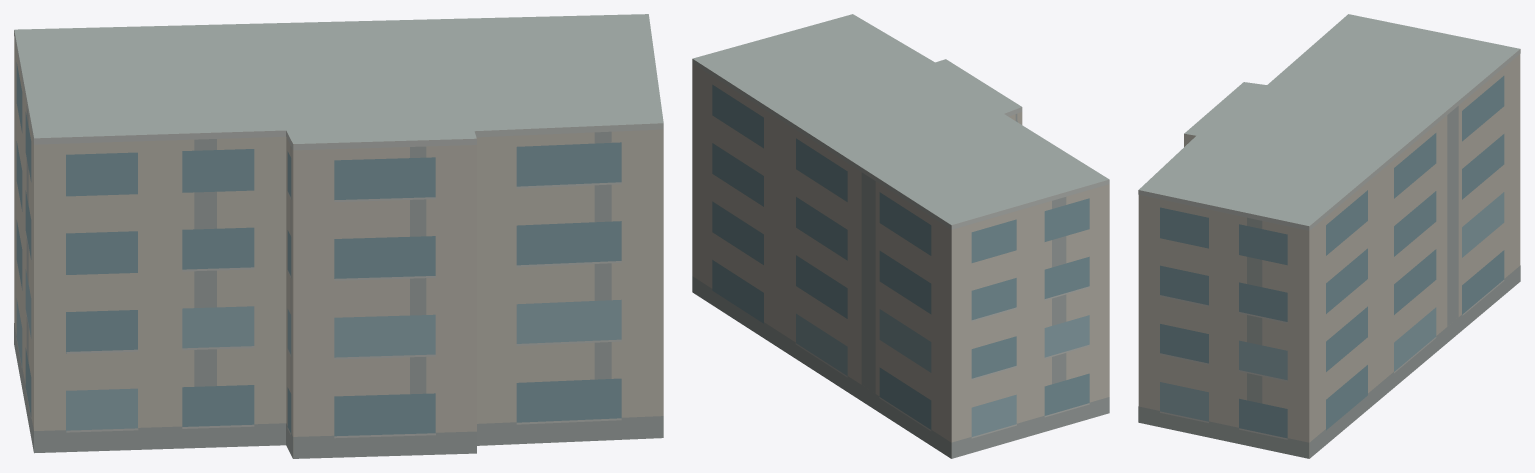
File: survey-upis-32475932.glb
The picture shows the model from 3 angles, left to right: view 1: azimuth 30°, elevation 25°; view 2: azimuth 150°, elevation 25°; view 3: azimuth 270°, elevation 25°; orthographic projection. The views are drawn at different scales.
Parts seen in each view (by area): view 1: survey-upis-32475932.tmp; view 2: survey-upis-32475932.tmp; view 3: survey-upis-32475932.tmp.
Boxes of the visible parts, box(x1,y1,x2,y2) form: survey-upis-32475932.tmp: box(14, 14, 663, 458); survey-upis-32475932.tmp: box(692, 14, 1109, 458); survey-upis-32475932.tmp: box(1138, 14, 1520, 458).
Bounding box in the file's own units: 23.88 × 12.2 × 18.16.
